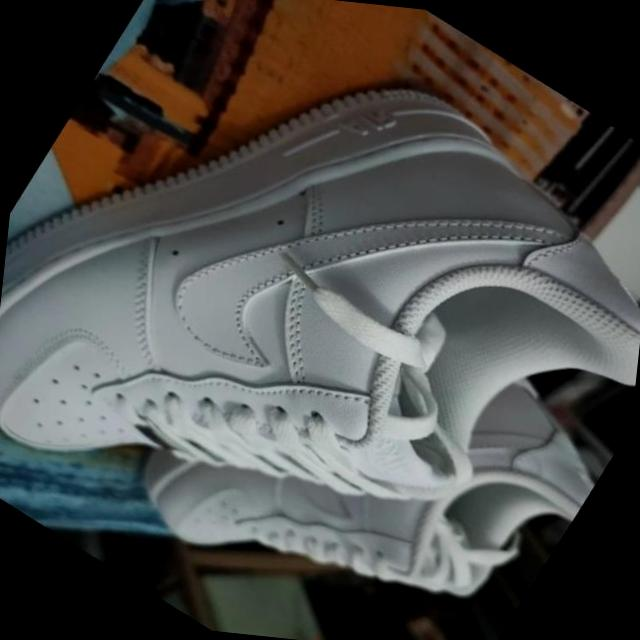nike_original_airforce: (0, 0, 640, 640), (93, 205, 640, 640)
